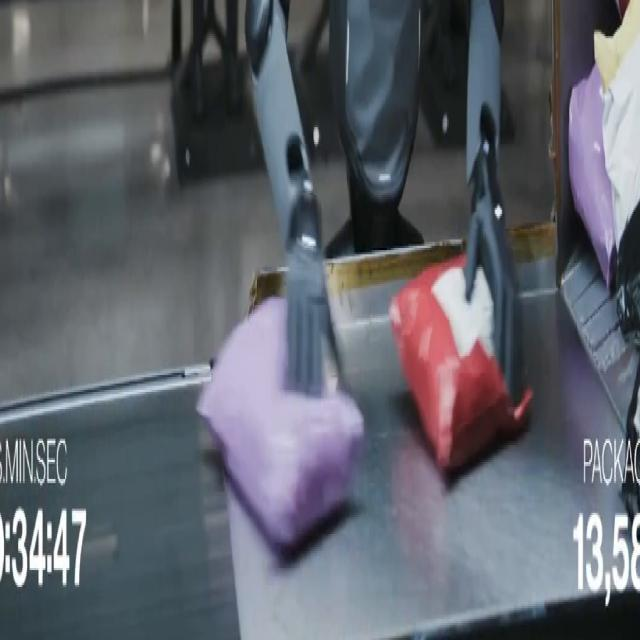package: (197, 299, 363, 550), (389, 257, 532, 472), (569, 66, 616, 288), (603, 39, 639, 247), (594, 0, 639, 91), (616, 204, 639, 345), (622, 363, 639, 521), (616, 0, 629, 19)
